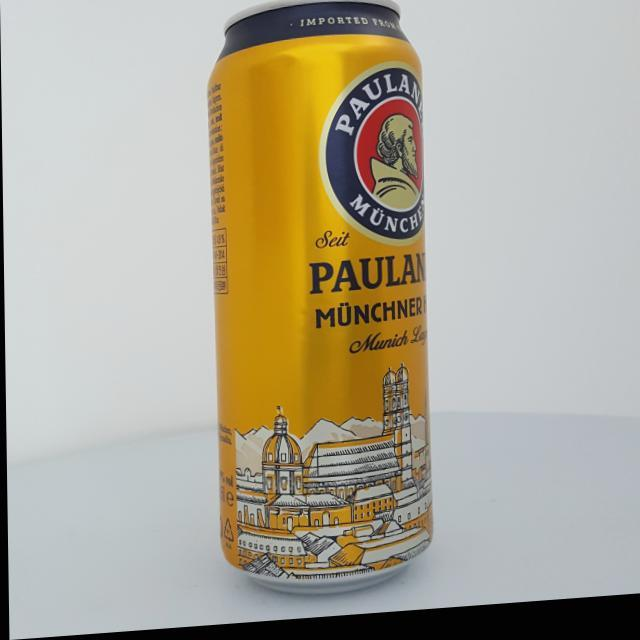beer-can: (205, 0, 432, 605)
